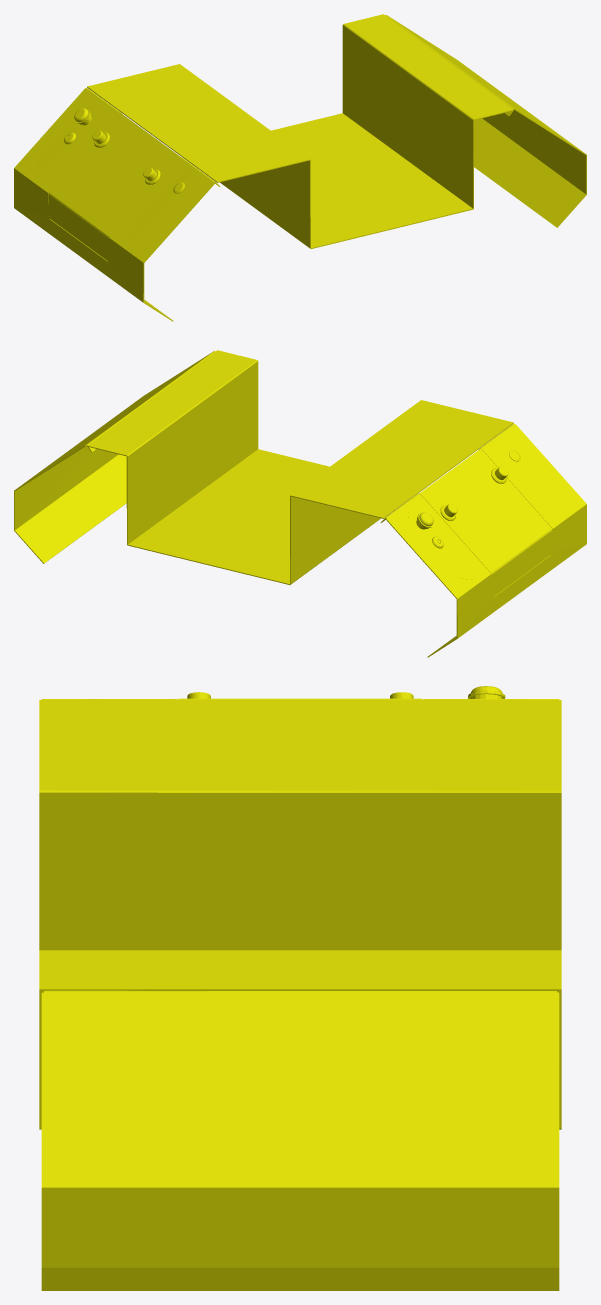
The model's file is top_plate.dae.
3 renders of one model, top to bottom at view 1: azimuth 30°, elevation 25°; view 2: azimuth 150°, elevation 25°; view 3: azimuth 270°, elevation 25°, orthographic. The views are drawn at different scales.
Parts seen in each view (by area): view 1: top_plate; view 2: top_plate; view 3: top_plate.
Part boxes in pixels (x1,y1,x2,y2): top_plate: [14, 14, 586, 321]; top_plate: [14, 350, 586, 657]; top_plate: [39, 686, 561, 1290].
Size of the model in its own units: 0.8119 by 0.4137 by 0.2264.
